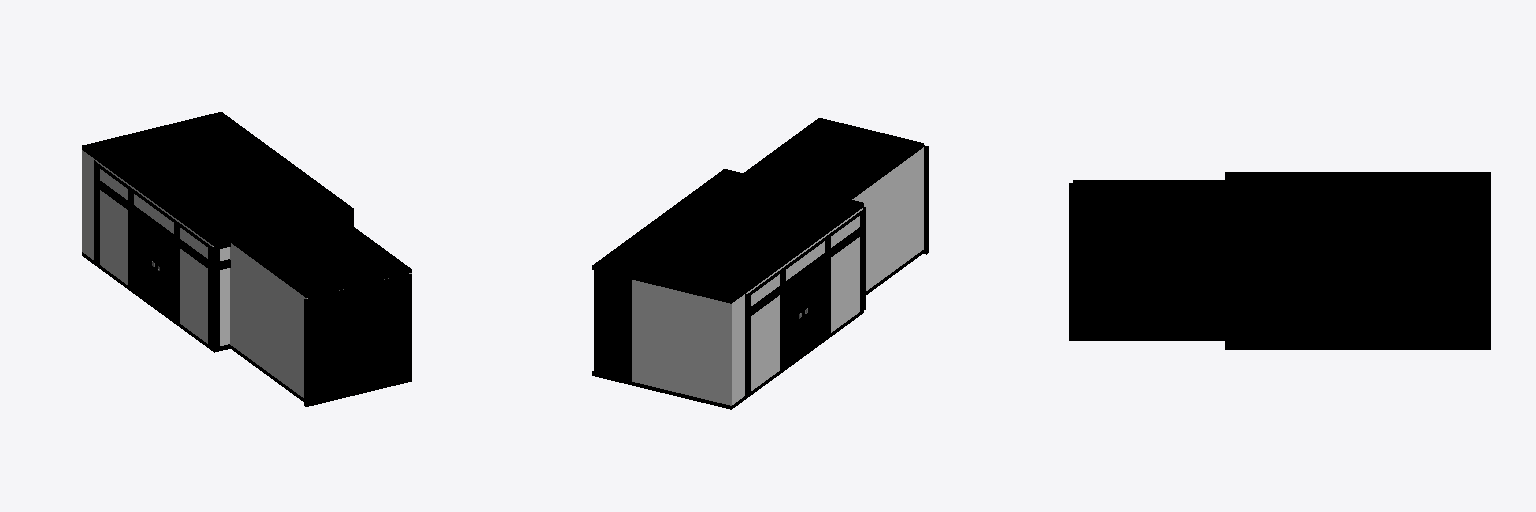
3 views of the same model, side by side, from view 1: azimuth 30°, elevation 25°; view 2: azimuth 150°, elevation 25°; view 3: azimuth 270°, elevation 25° (orthographic).
Visible parts, largest first — view 1: TatamiSingleMesh; view 2: TatamiSingleMesh; view 3: TatamiSingleMesh.
Boxes of the visible parts, x1=… form: TatamiSingleMesh: x1=82, y1=112, x2=411, y2=406; TatamiSingleMesh: x1=592, y1=118, x2=928, y2=409; TatamiSingleMesh: x1=1069, y1=172, x2=1490, y2=349.
Size of the model in its own units: 38.35 by 31.42 by 98.86.
Materials: 21 (6 with a texture image).